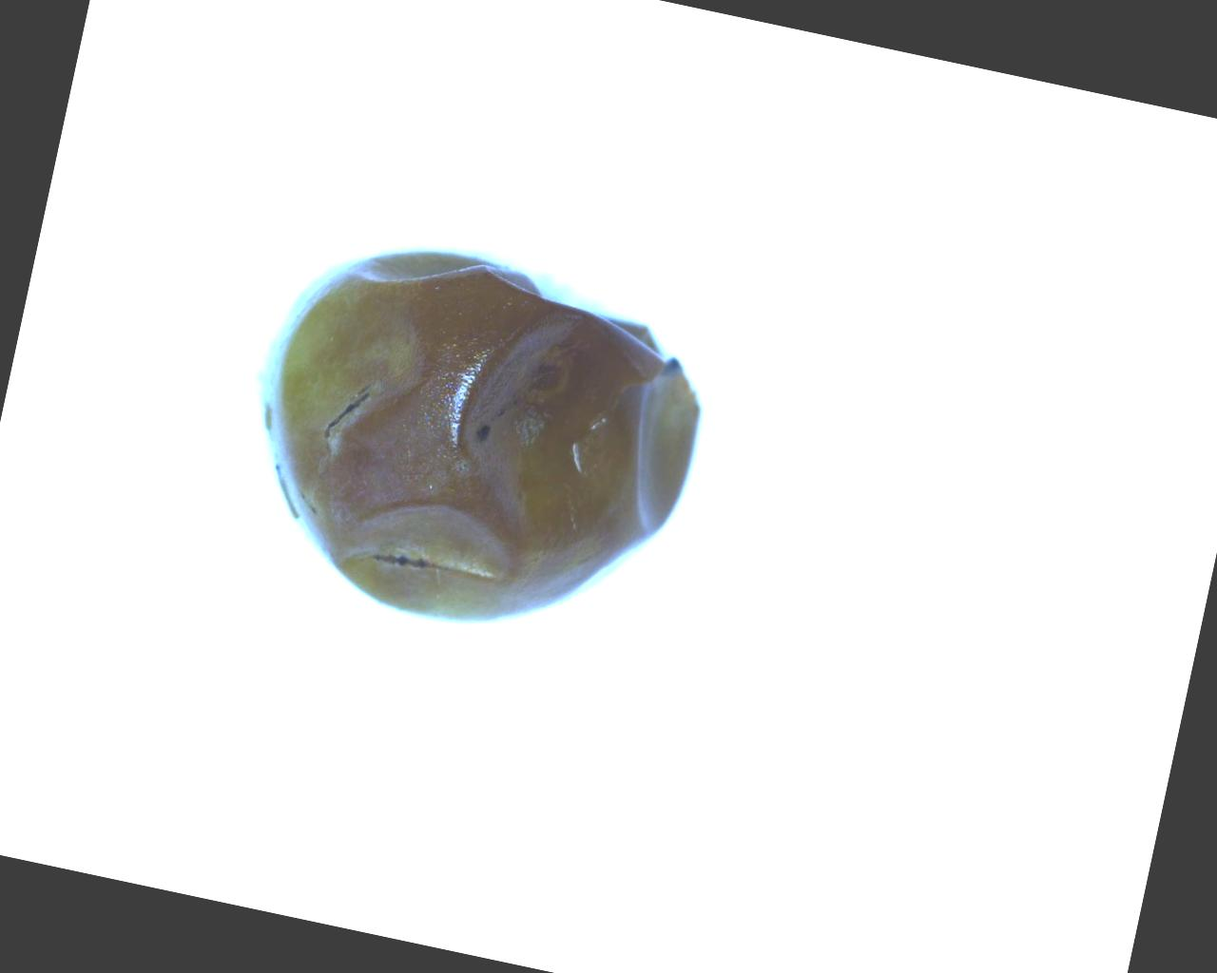Grape Rotten: (221, 214, 728, 667)
